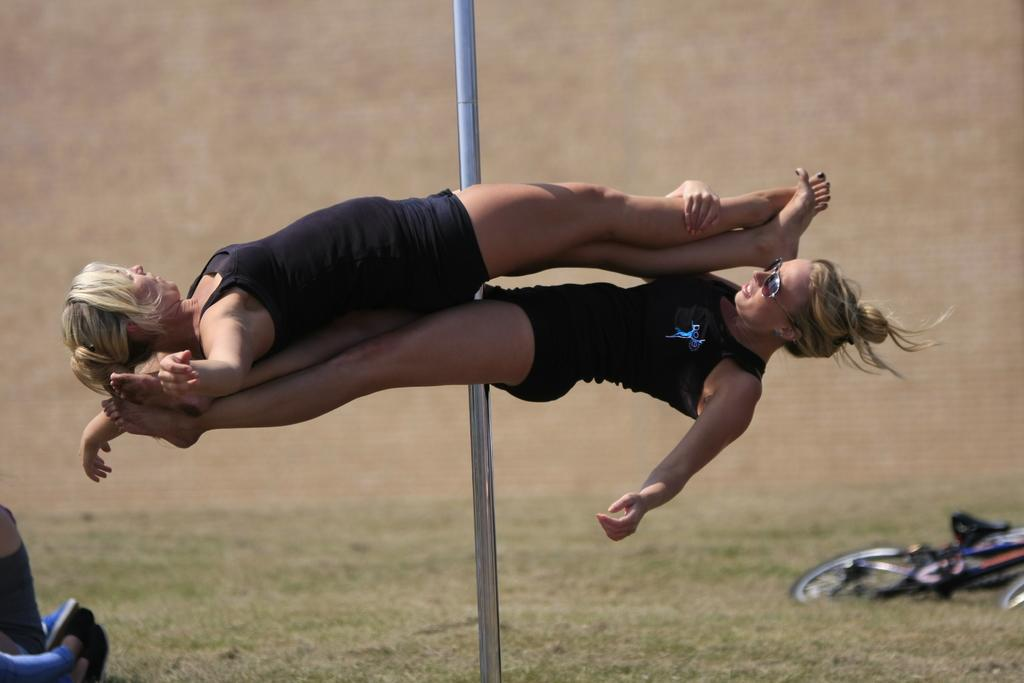Sem Máscara: (730, 255, 810, 328), (109, 263, 178, 302)
